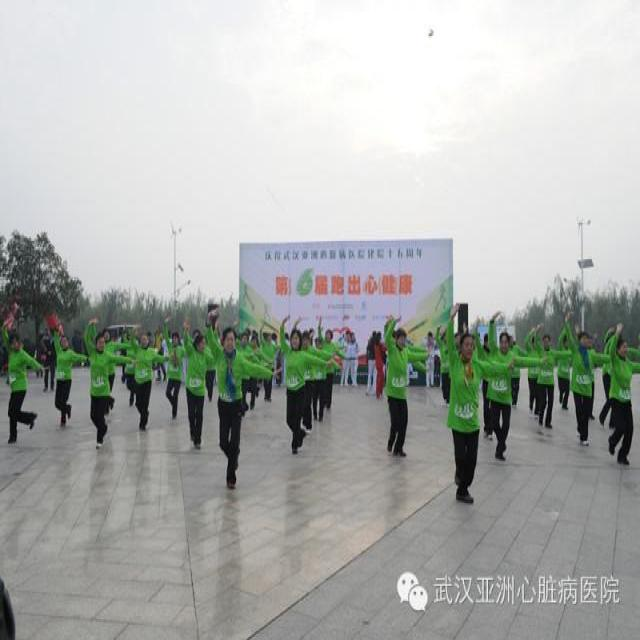non-fight: (438, 302, 516, 504), (206, 304, 283, 488), (437, 304, 487, 504), (278, 315, 330, 454), (84, 318, 138, 448), (382, 316, 429, 460), (558, 316, 608, 446), (596, 330, 640, 461), (0, 325, 45, 444), (130, 320, 171, 431), (527, 320, 566, 431), (184, 324, 214, 450), (51, 319, 86, 426), (344, 332, 359, 387)
